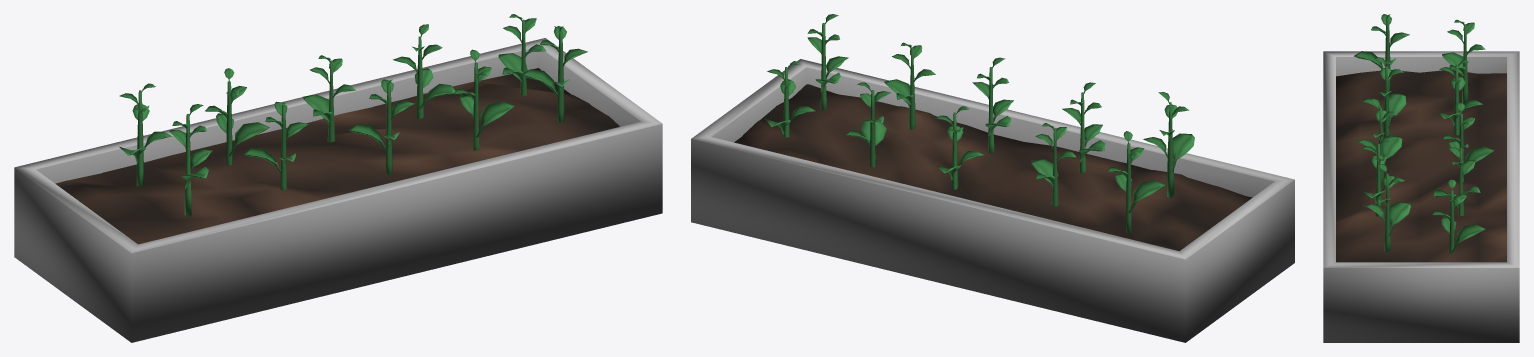
The picture shows the model from 3 angles, left to right: view 1: azimuth 30°, elevation 25°; view 2: azimuth 150°, elevation 25°; view 3: azimuth 270°, elevation 25°; orthographic projection. The views are drawn at different scales.
Visible parts, largest first — view 1: alt2.012; view 2: alt2.012; view 3: alt2.012.
Part boxes in pixels (x1=…): alt2.012: x1=14, y1=14, x2=662, y2=342; alt2.012: x1=691, y1=14, x2=1294, y2=342; alt2.012: x1=1323, y1=14, x2=1519, y2=342.
Bounding box in the file's own units: 0.5 × 0.166 × 0.1914.
